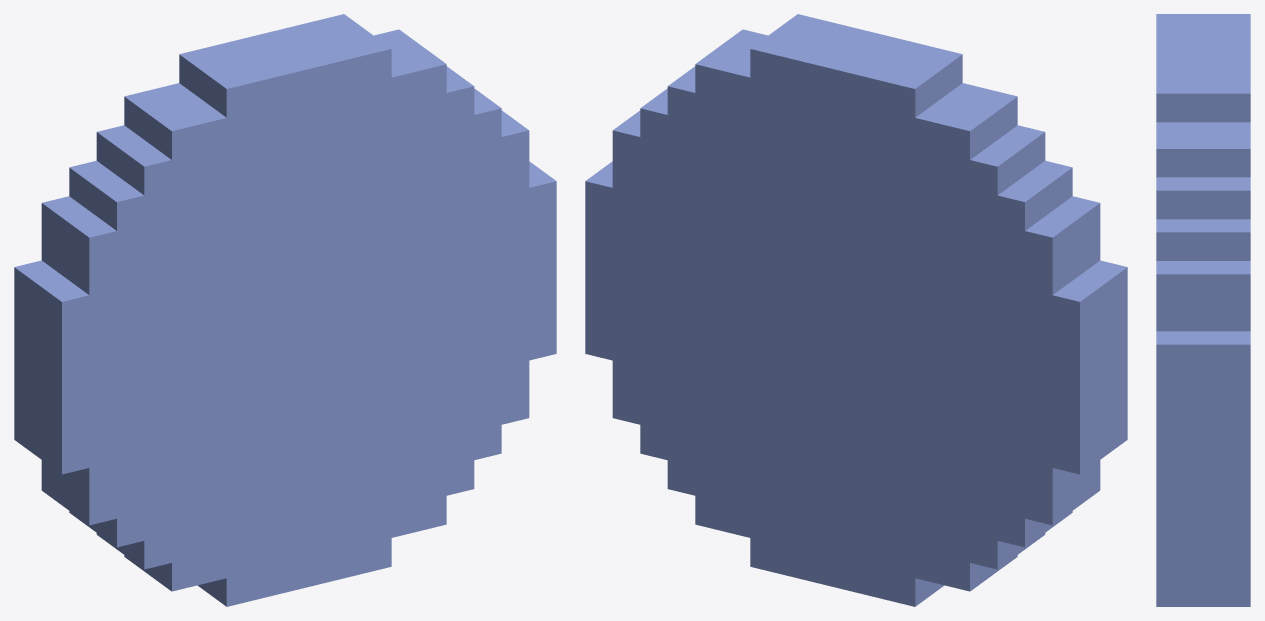
The model's file is House-3.obj.
The picture shows the model from 3 angles, left to right: view 1: azimuth 30°, elevation 25°; view 2: azimuth 150°, elevation 25°; view 3: azimuth 270°, elevation 25°; orthographic projection.
Size of the model in its own units: 1.8 by 1.8 by 0.3.
Materials: 1 (1 with a texture image).
